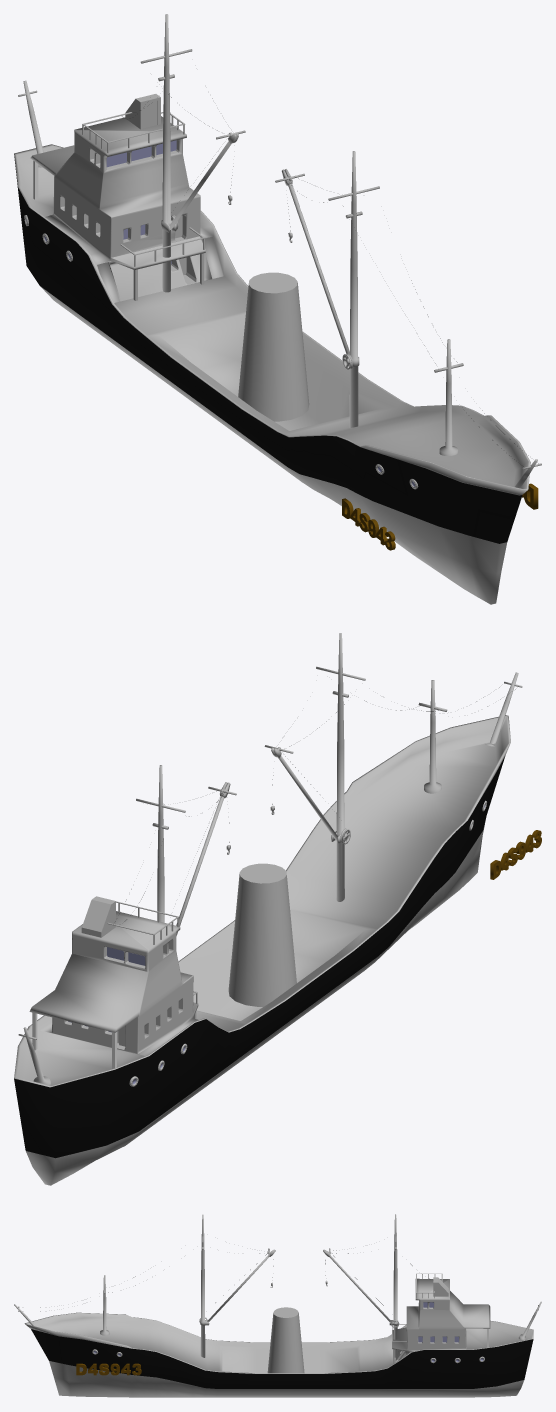
The model's file is D3_Ship3.glb.
3 renders of one model, top to bottom at view 1: azimuth 30°, elevation 25°; view 2: azimuth 150°, elevation 25°; view 3: azimuth 270°, elevation 25°, orthographic. The views are drawn at different scales.
Visible parts, largest first — view 1: Object_6, Object_2, Cylinder, Text.001, Object_4; view 2: Object_6, Object_2, Cylinder, Text.001; view 3: Object_6, Object_2, Cylinder, Text.
Boxes of the visible parts, x1,y1,x2,y2 form: Object_6: (14,14,541,604); Object_2: (14,160,522,543); Cylinder: (238,272,309,421); Text.001: (342,498,395,550); Object_4: (26,140,415,486); Object_6: (14,633,522,1185); Object_2: (14,756,505,1158); Cylinder: (228,863,296,1006); Text.001: (490,830,541,879); Object_6: (14,1214,541,1397); Object_2: (31,1329,533,1388); Cylinder: (267,1307,304,1373); Text: (76,1363,141,1375).
Size of the model in its own units: 7.24 by 16.34 by 43.39.
Materials: 6 (1 with a texture image).
